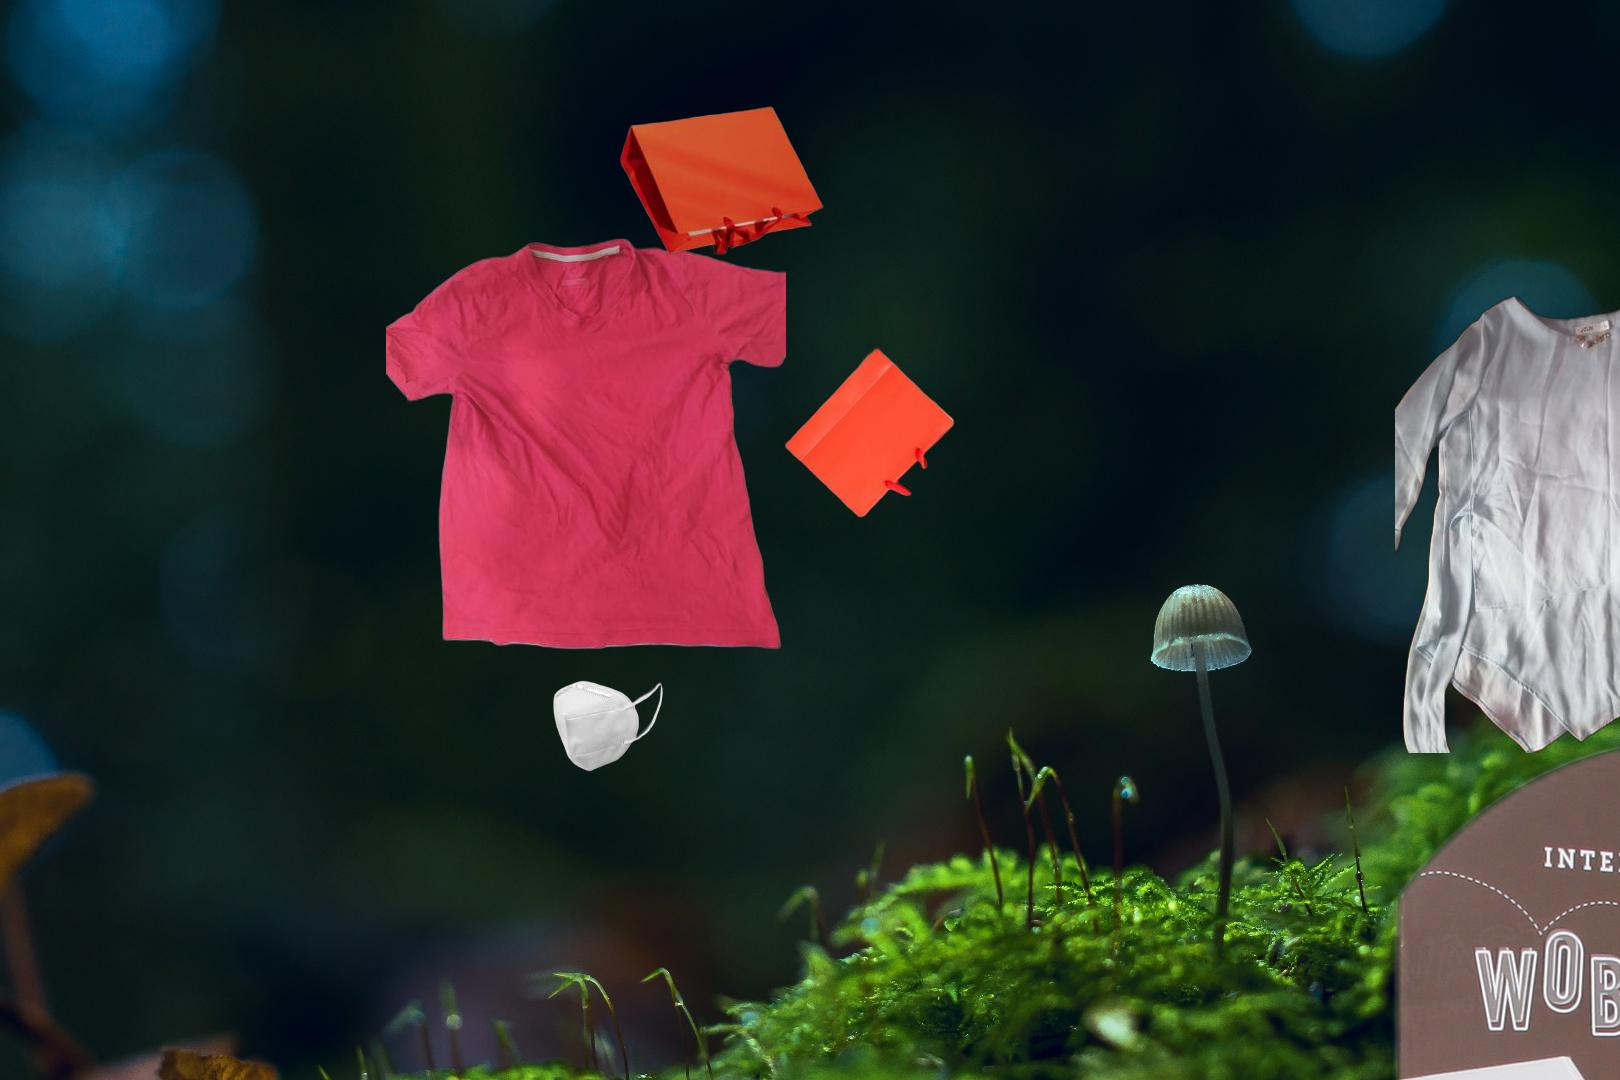clothes: (386, 234, 786, 662), (1395, 276, 1620, 753), (1584, 993, 1620, 1080)
paper-bag: (782, 257, 1020, 520), (617, 102, 827, 258)
trash: (550, 677, 667, 774)
trashbox-cardboard: (1378, 721, 1620, 1080)
